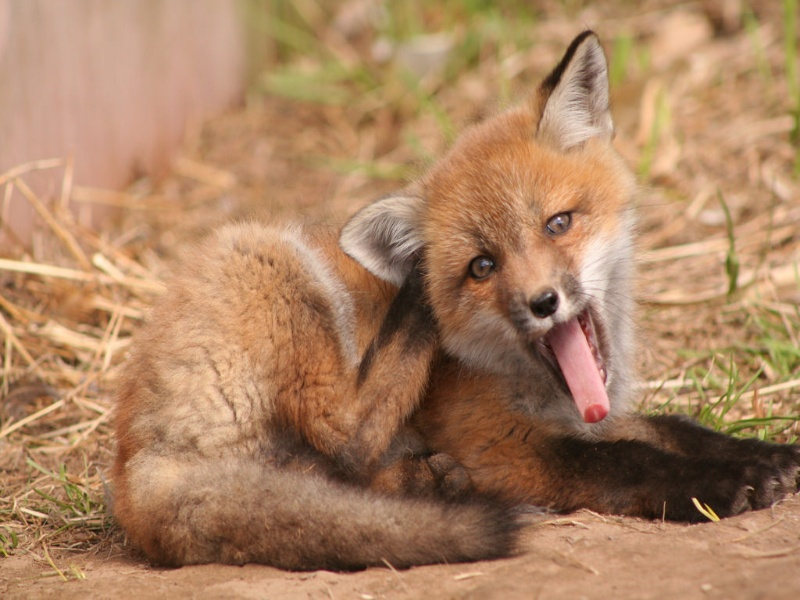fox: (107, 27, 800, 571)
